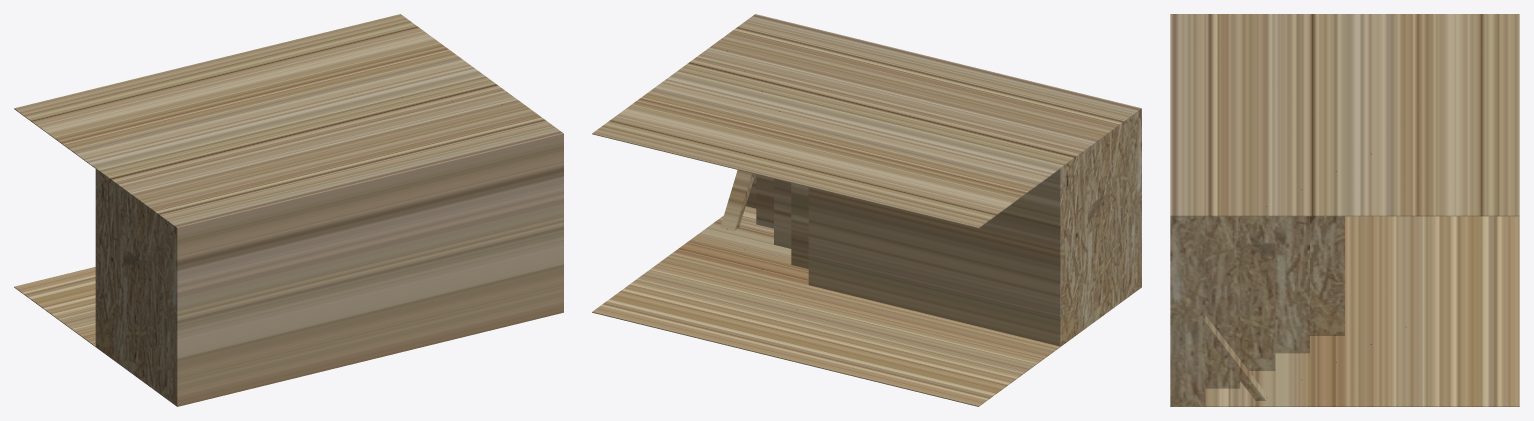
The model's file is Stairs_40deg_2deb.dae.
3 views of the same model, side by side, from view 1: azimuth 30°, elevation 25°; view 2: azimuth 150°, elevation 25°; view 3: azimuth 270°, elevation 25° (orthographic). The views are drawn at different scales.
Visible parts, largest first — view 1: Stairs 40deg 2deb; view 2: Stairs 40deg 2deb; view 3: Stairs 40deg 2deb.
Boxes of the visible parts, x1,y1,x2,y2 form: Stairs 40deg 2deb: (14,14,563,406); Stairs 40deg 2deb: (592,14,1141,406); Stairs 40deg 2deb: (1170,14,1519,406).
Bounding box in the file's own units: 273 × 200 × 121.
Materials: 1 (1 with a texture image).
